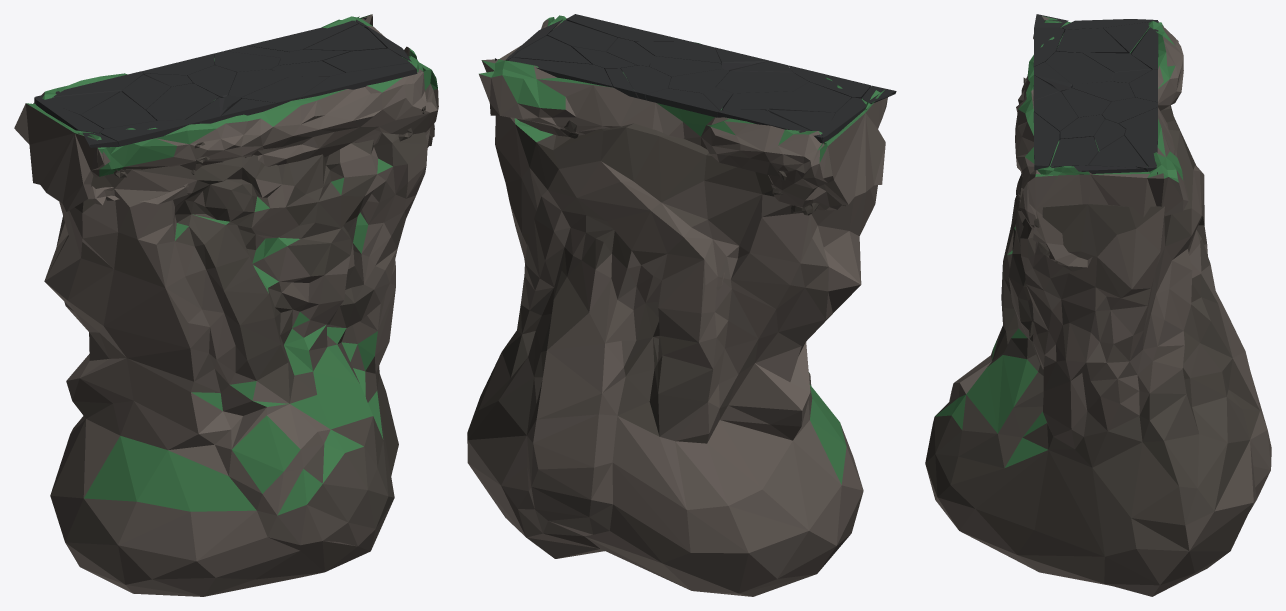
File: Pilar.fbx
3 renders of one model, left to right at view 1: azimuth 30°, elevation 25°; view 2: azimuth 150°, elevation 25°; view 3: azimuth 270°, elevation 25°, orthographic. The views are drawn at different scales.
Visible parts, largest first — view 1: road small.001; view 2: road small.001; view 3: road small.001.
Boxes of the visible parts, x1,y1,x2,y2 form: road small.001: (14,14,438,596); road small.001: (467,14,896,596); road small.001: (925,14,1271,596).
Size of the model in its own units: 630 by 825 by 557.
